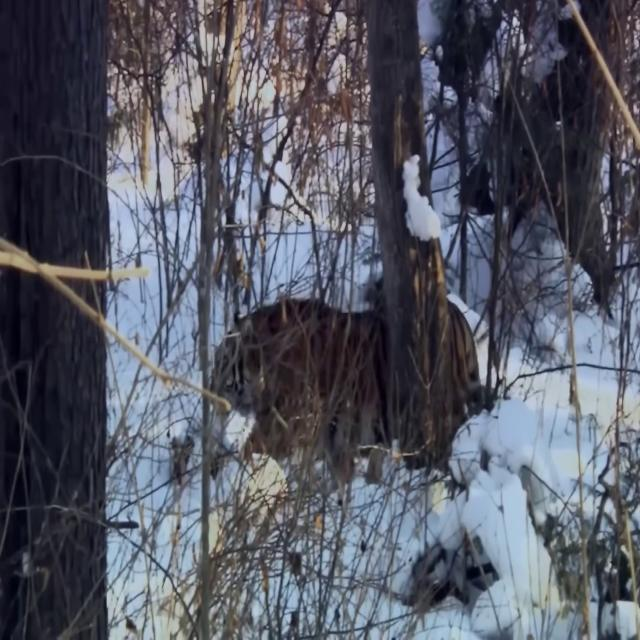tiger: (163, 290, 480, 484)
